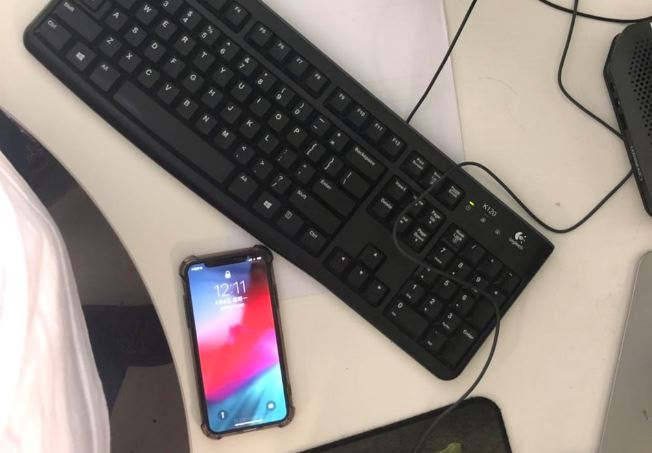mobil: (177, 243, 297, 441)
